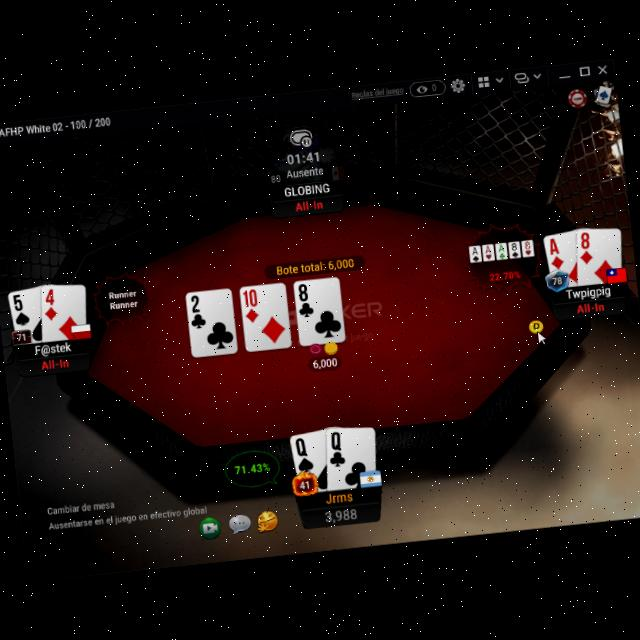2c: (186, 291, 208, 331)
4d: (40, 284, 60, 322)
5s: (9, 289, 33, 327)
8c: (294, 280, 316, 320)
8d: (576, 228, 596, 266)
Ad: (546, 233, 566, 270)
Qc: (326, 428, 348, 468)
Qs: (292, 434, 316, 476)
Td: (240, 286, 262, 324)
all_in_symbol: (293, 196, 325, 212), (574, 299, 606, 314), (40, 354, 70, 370)
bet_text: (311, 354, 338, 371)
dealer: (526, 316, 544, 333)
pot_text: (275, 255, 355, 275)
stack_text: (322, 504, 359, 524)
